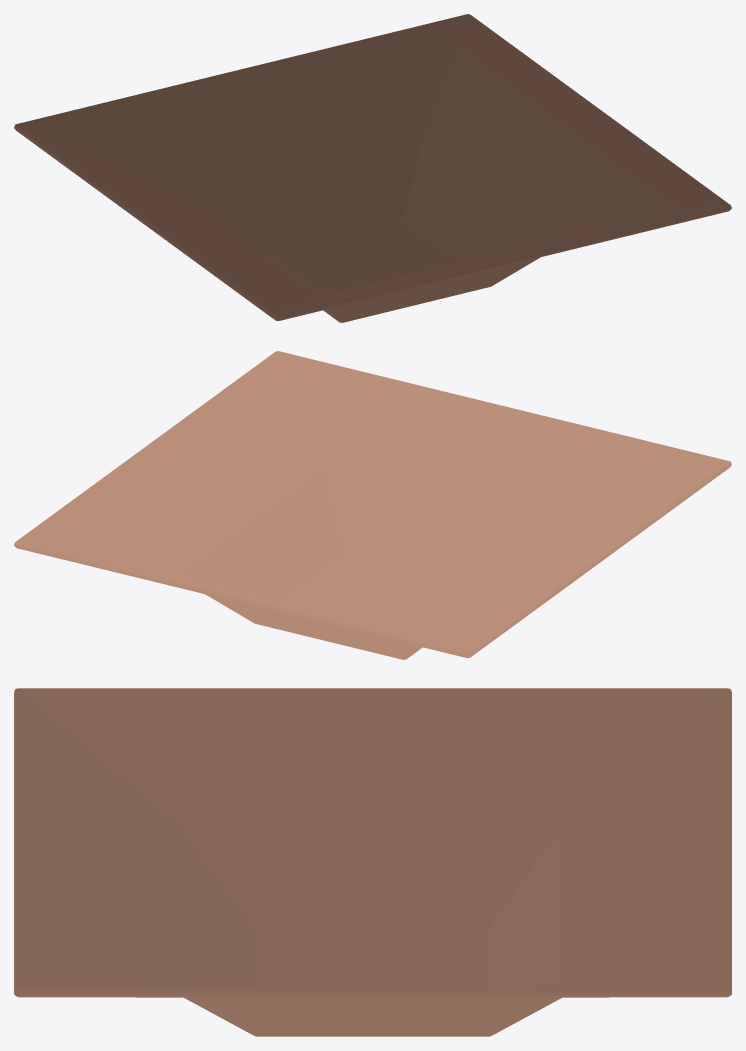
The model's file is DecorativePlate_fbce0c45.obj.
3 renders of one model, top to bottom at view 1: azimuth 30°, elevation 25°; view 2: azimuth 150°, elevation 25°; view 3: azimuth 270°, elevation 25°, orthographic. The views are drawn at different scales.
Parts seen in each view (by area): view 1: DecorativePlate_fbce0c45; view 2: DecorativePlate_fbce0c45; view 3: DecorativePlate_fbce0c45.
Boxes of the visible parts, <box> form: DecorativePlate_fbce0c45: <box>14,14,731,322</box>; DecorativePlate_fbce0c45: <box>14,351,731,659</box>; DecorativePlate_fbce0c45: <box>14,688,731,1036</box>.
Size of the model in its own units: 0.1678 by 0.0384 by 0.1678.
